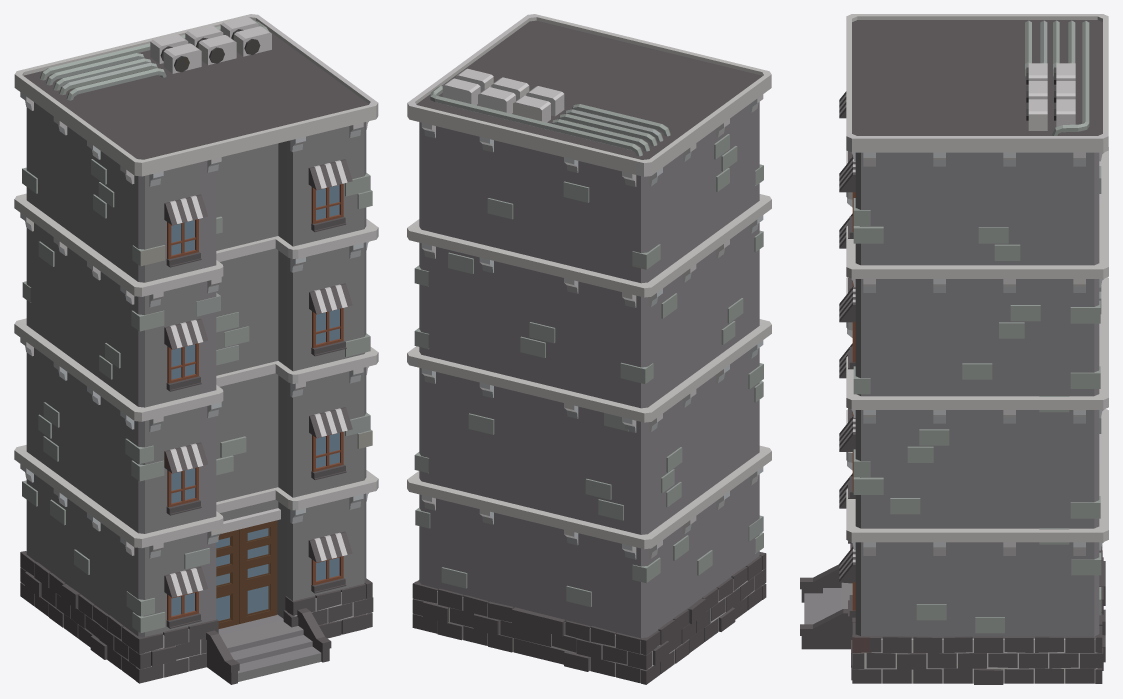
The model's file is 4Story Center.glb.
3 renders of one model, left to right at view 1: azimuth 30°, elevation 25°; view 2: azimuth 150°, elevation 25°; view 3: azimuth 270°, elevation 25°, orthographic. The views are drawn at different scales.
Parts seen in each view (by area): view 1: 4Story_Center; view 2: 4Story_Center; view 3: 4Story_Center.
Boxes of the visible parts, left/top/right/bottom form: 4Story_Center: left=14, top=14, right=378, bottom=684; 4Story_Center: left=407, top=14, right=771, bottom=684; 4Story_Center: left=800, top=14, right=1108, bottom=684.
Size of the model in its own units: 5.81 by 12.22 by 6.08.
Materials: 1 (1 with a texture image).
